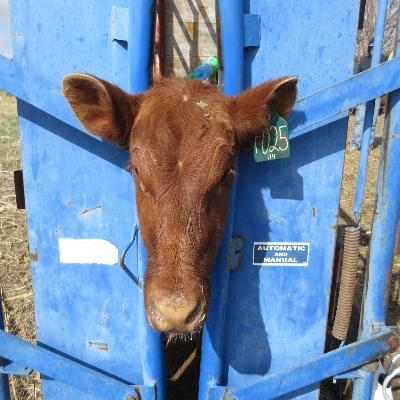fidget_spinner: (148, 292, 197, 332)
